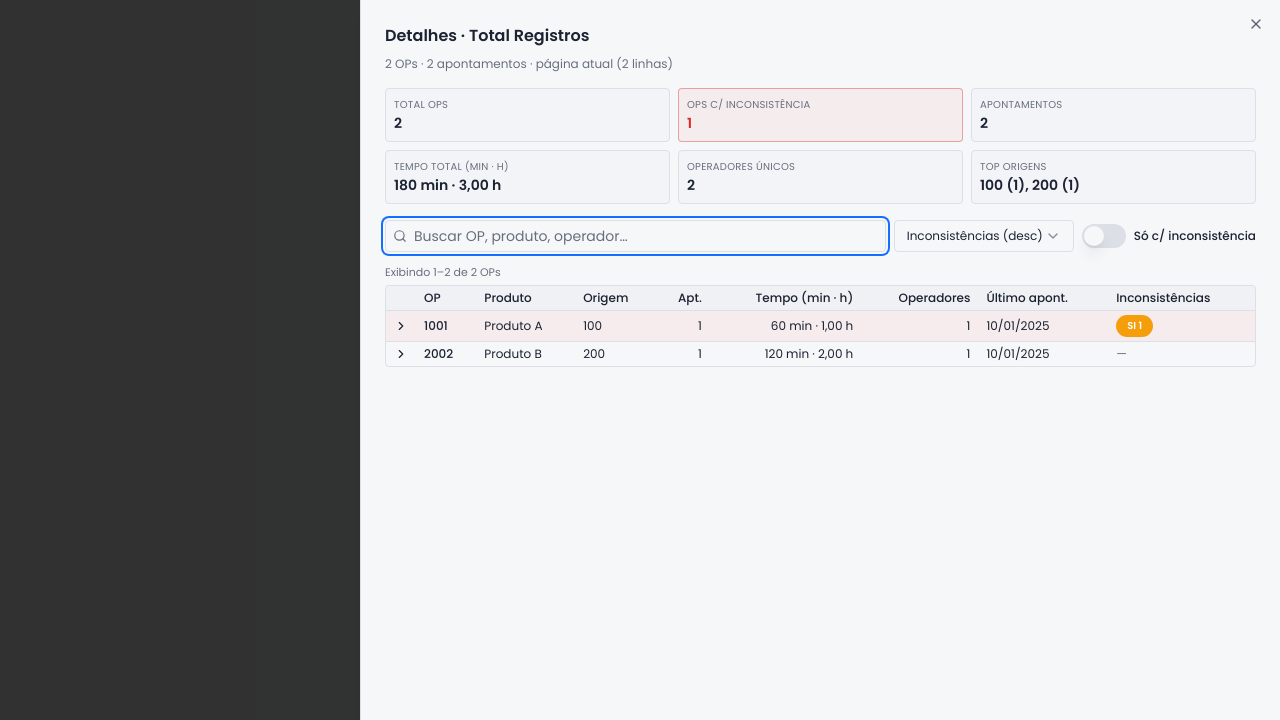
Test: KpiDeepSheet — toggle 'Só c/ inconsistência' › Drills neutros (toggle deve aparecer e funcionar) › total: toggle visível, hint ausente, filtra ao ativar
Expected: the text "1001" is shown, [416,310,476,341]
Expected: the text "2002" is shown, [416,341,476,366]
What coordinates should you click on to do the following:
click the switch named "Só c/ inconsist"
I would click on:
 (1104, 236)
Its box is [1082,224,1126,248].
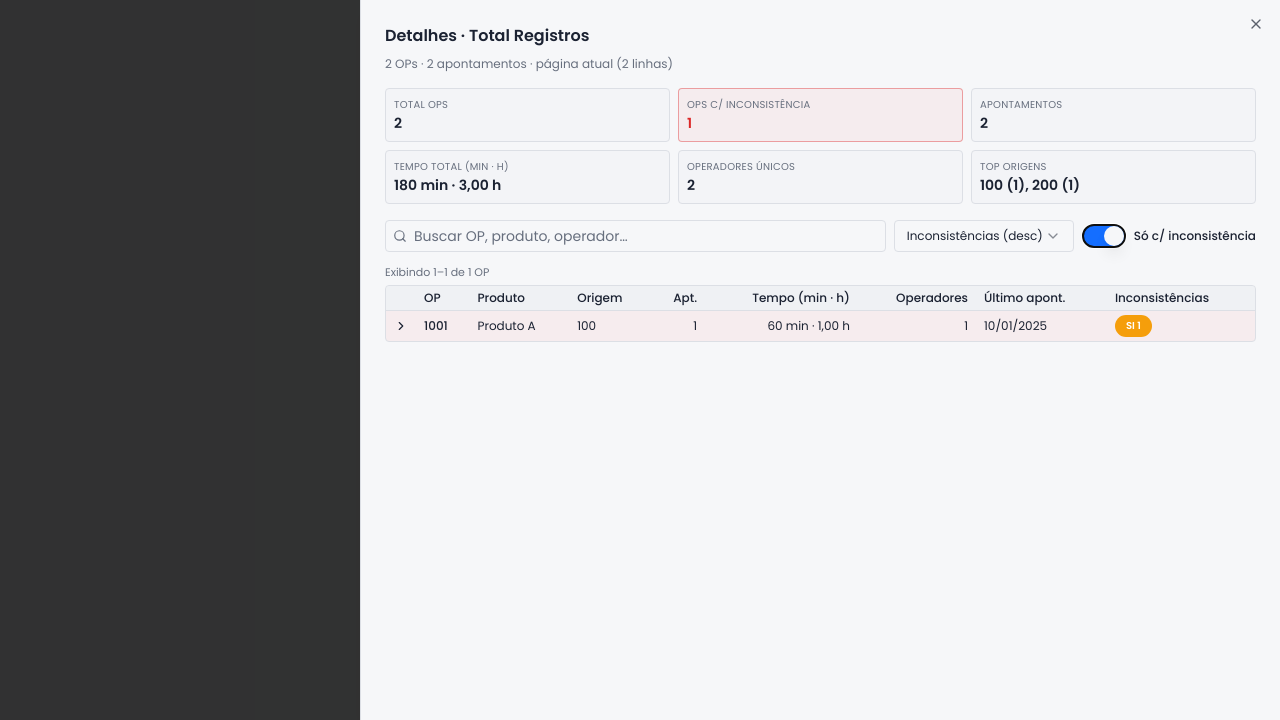
Expected: the text "1001" is shown, [416,310,470,340]
Expected: the text "2002" is gone
